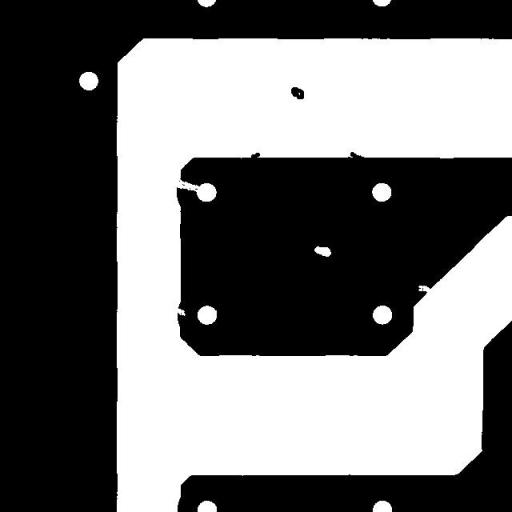copper: (283, 80, 311, 106)
mousebite: (164, 300, 193, 323), (410, 278, 440, 299)
open: (164, 170, 209, 200)
pin-hole: (306, 238, 338, 264)
spur: (342, 144, 378, 170), (243, 145, 267, 166)
